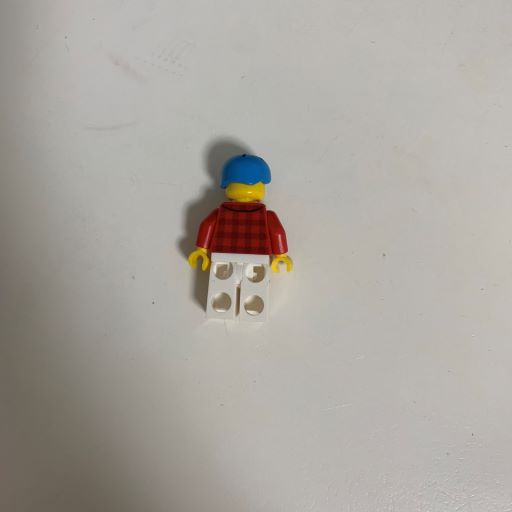human: (176, 140, 300, 334)
